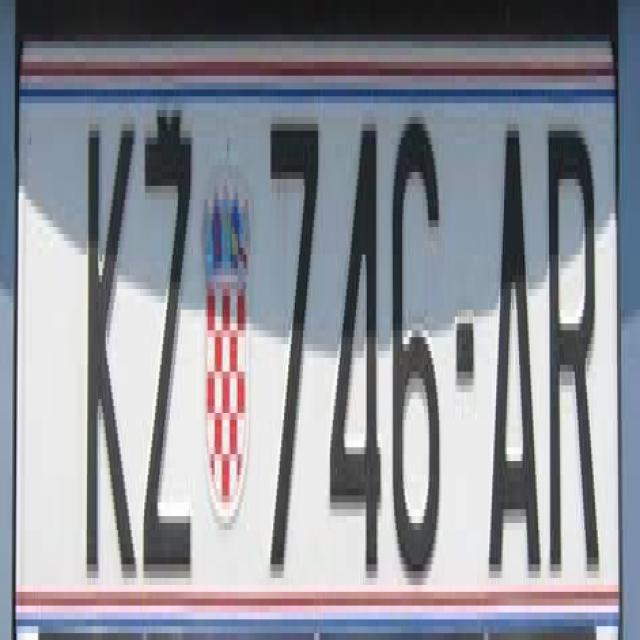Autre: (15, 0, 624, 640)
